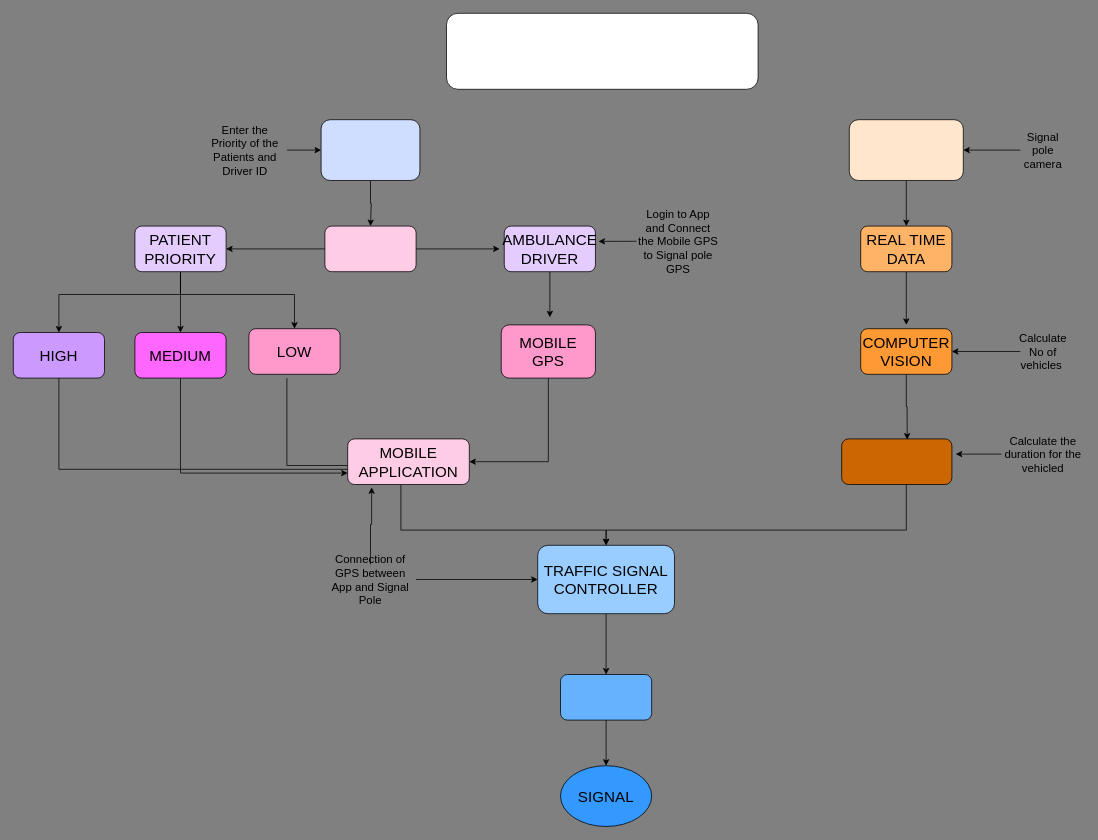
Some shapes in this 1098 by 840 pixel diagram are drawn without their labels. Here are the shapes that lost their labels. From the top down, the centre of each, then its label:
At point 602,51: "FLOW CHART".
At point 370,149: "HOSPITAL".
At point 906,149: "CAMERA".
At point 370,248: "LOGIN ID".
At point 896,461: "TRAFFIC CALCULATION".
At point 606,697: "DELAY".
